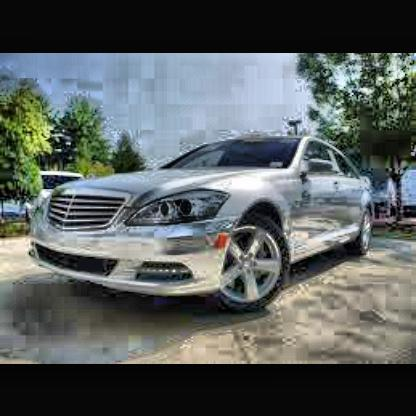Mercedes-Benz S-Class Sedan 2012: (27, 134, 381, 315)
